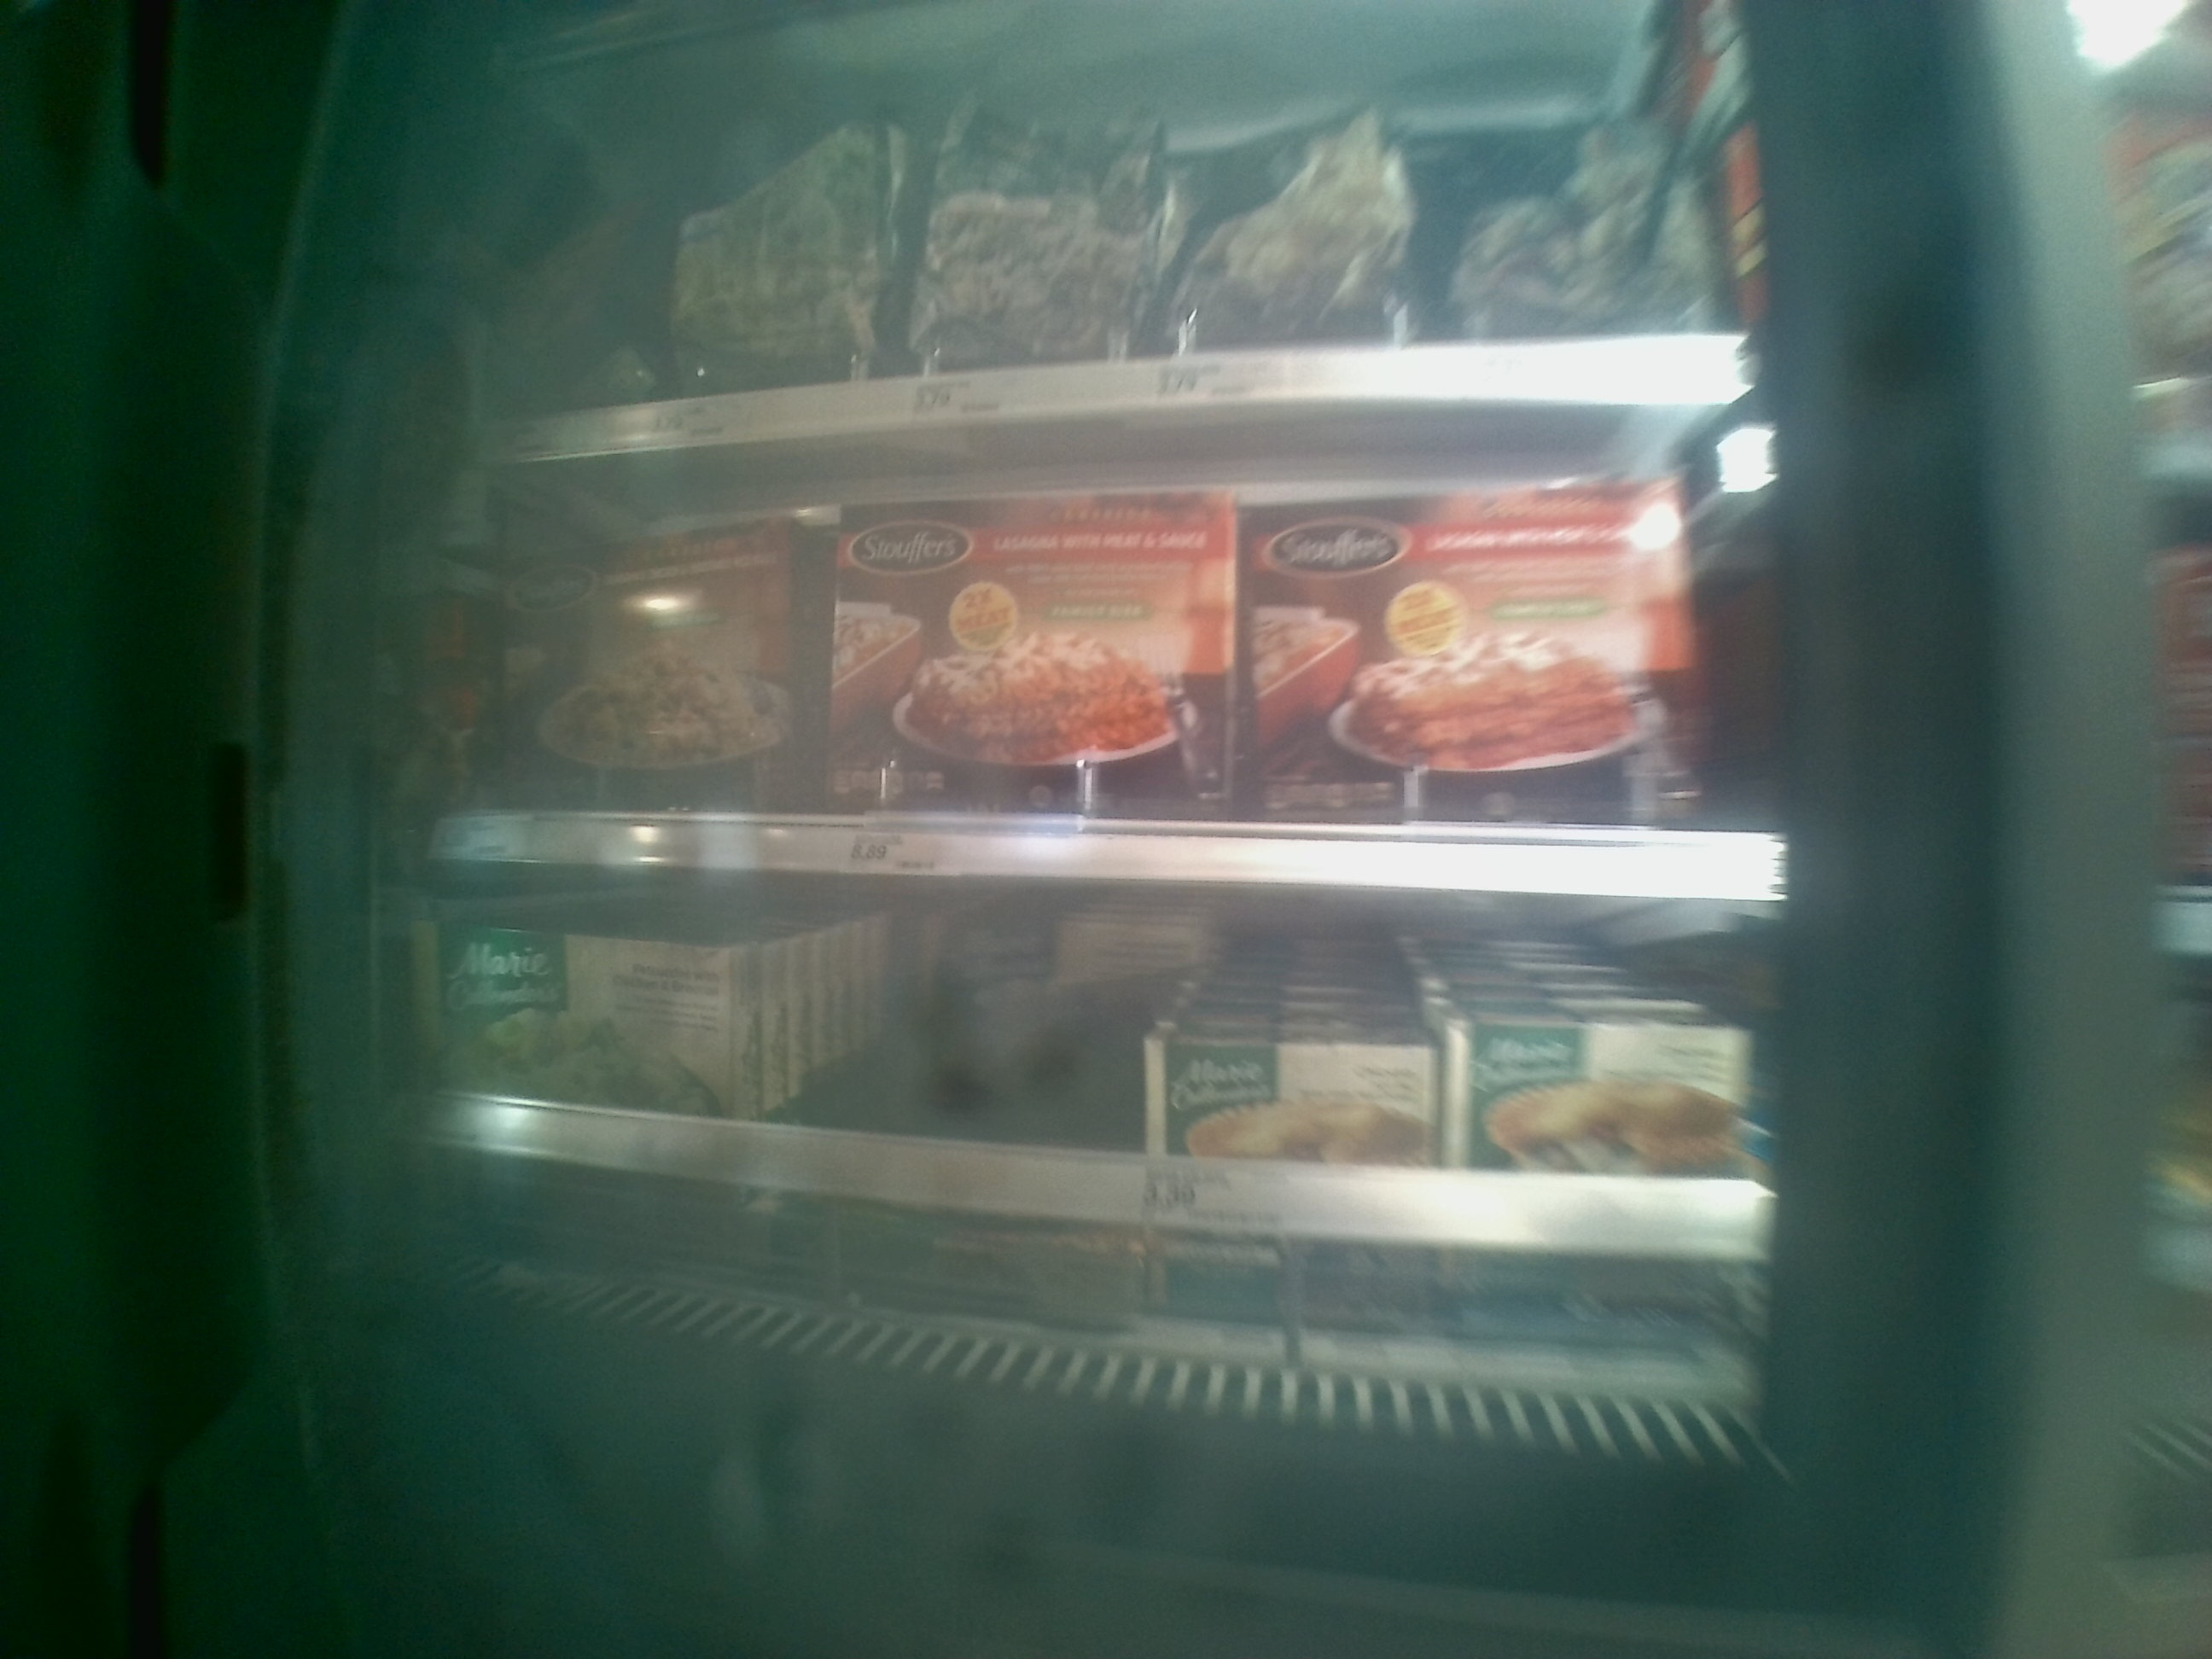shelf: (439, 859, 1325, 1211)
